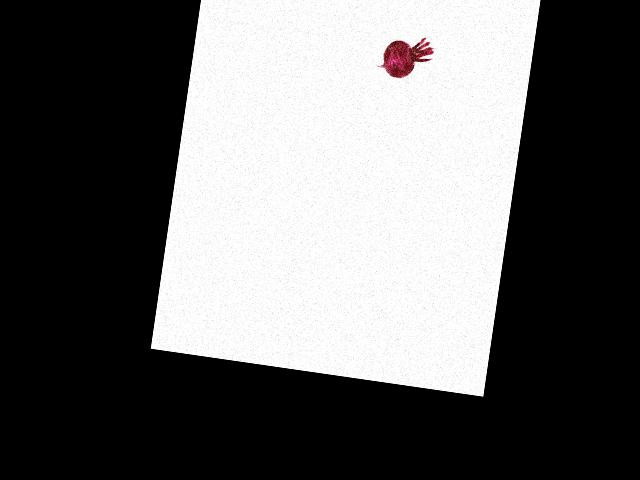beet: (373, 31, 435, 82)
